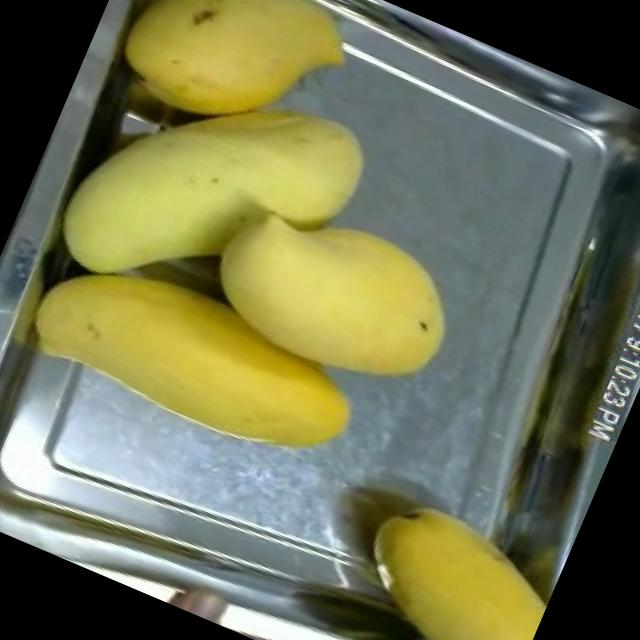fruit: (32, 19, 398, 378), (0, 209, 398, 520), (166, 157, 496, 457), (304, 451, 577, 640), (92, 0, 370, 176)
